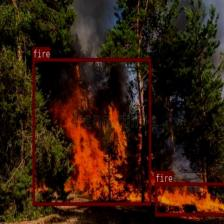fire: (32, 58, 151, 204), (154, 181, 224, 215)
